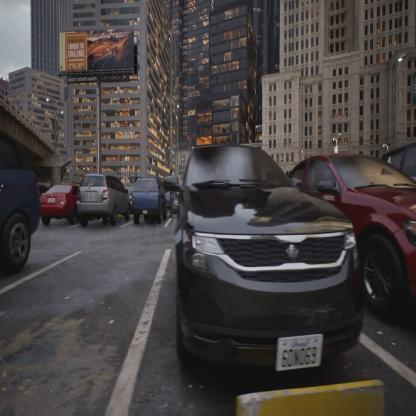License-Plate: (272, 330, 329, 377)
